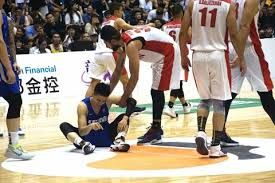10+: (1, 1, 275, 164)
down: (56, 71, 141, 155)
